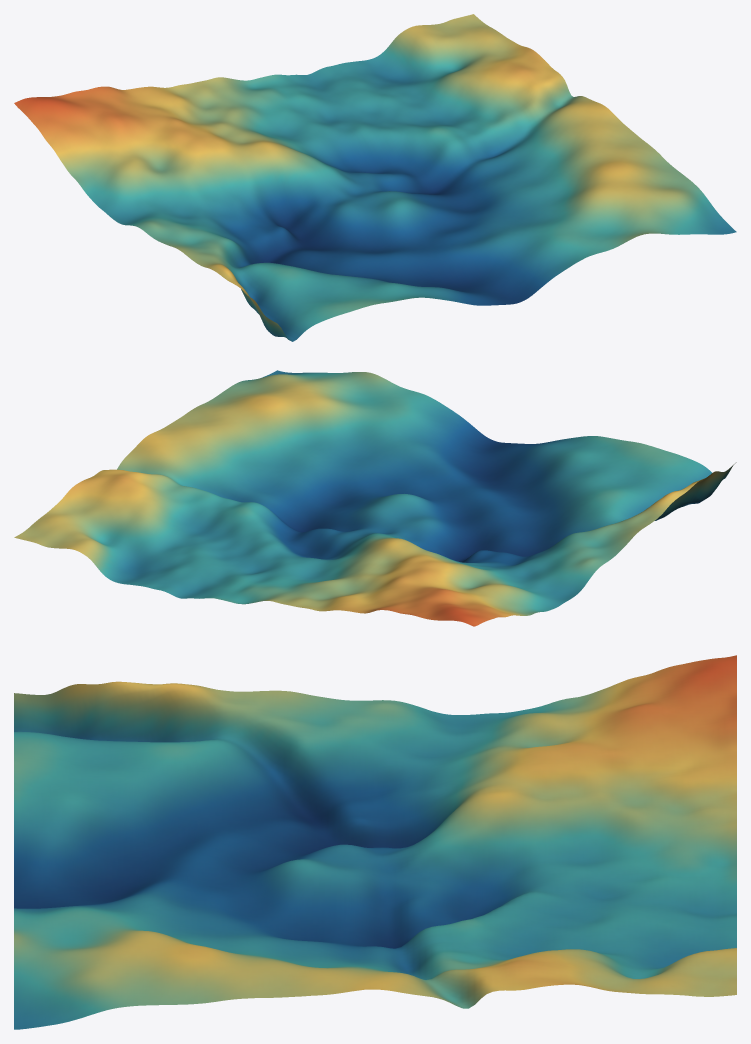
File: terrain3d2-chicxulub.glb
3 views of the same model, one above another, from view 1: azimuth 30°, elevation 25°; view 2: azimuth 150°, elevation 25°; view 3: azimuth 270°, elevation 25° (orthographic). The views are drawn at different scales.
Visible parts, largest first — view 1: Recorded gravity anomaly; view 2: Recorded gravity anomaly; view 3: Recorded gravity anomaly.
Part boxes in pixels (x1,y1,x2,y2): Recorded gravity anomaly: (14,14,736,341); Recorded gravity anomaly: (14,370,736,626); Recorded gravity anomaly: (14,655,736,1029).
Size of the model in its own units: 205709 by 31200 by 203971.
1 material, 1 textured.
